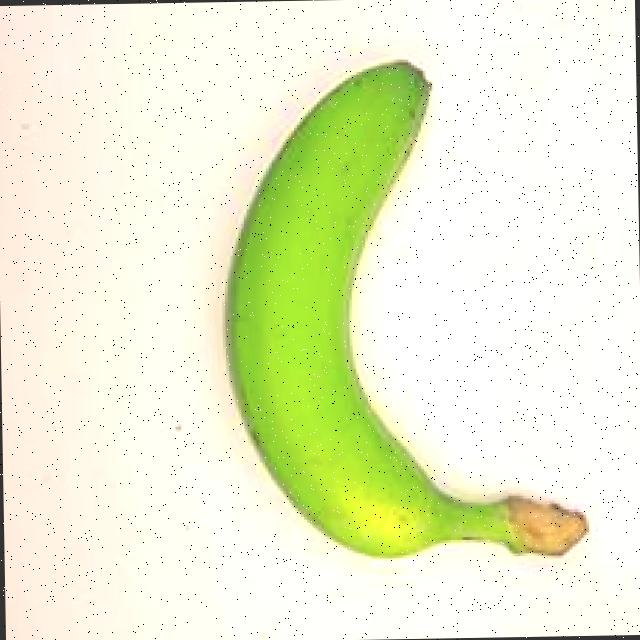Unripe: (200, 51, 627, 572)
